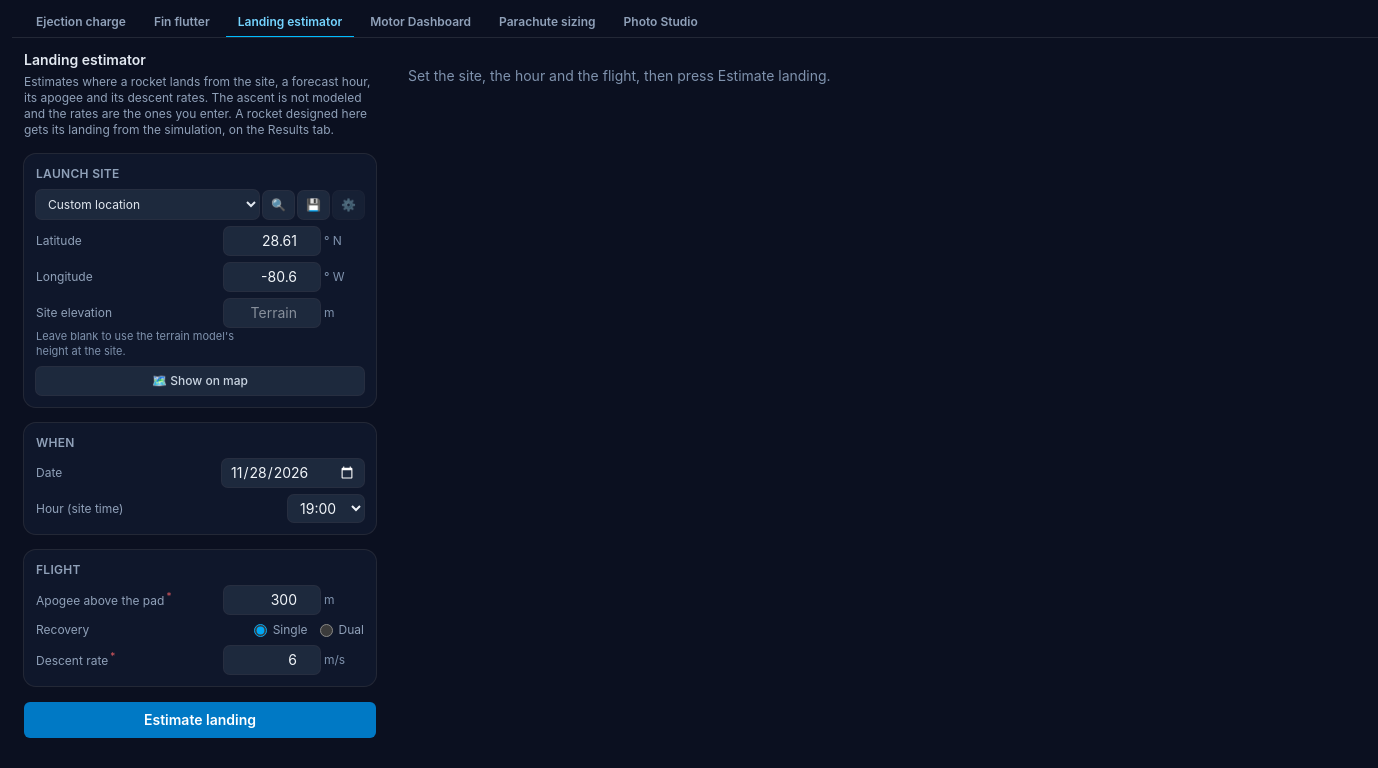
Test: the Tools tab › holds Photo Studio, with desktop's three tabs of settings
Step 1. Click the tab "Photo Studio" → (661, 23), box [612,8,710,38]
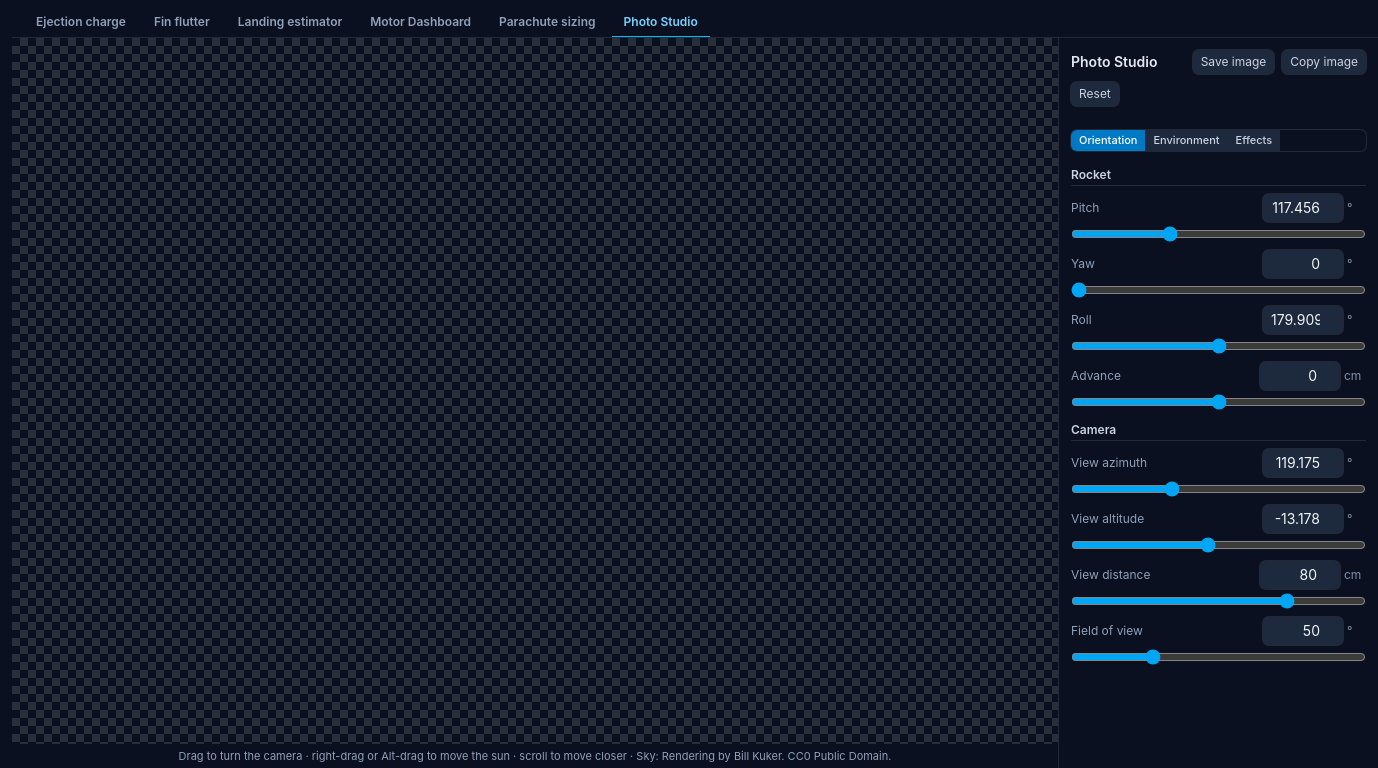
Check: the heading "Photo Studio" is shown, box [1071,52,1158,72]
Check: the number field named "Pitch" is shown, box [1263,194,1343,222]
Step 2. Click the button "Environment" → (1187, 140), box [1146,130,1228,150]
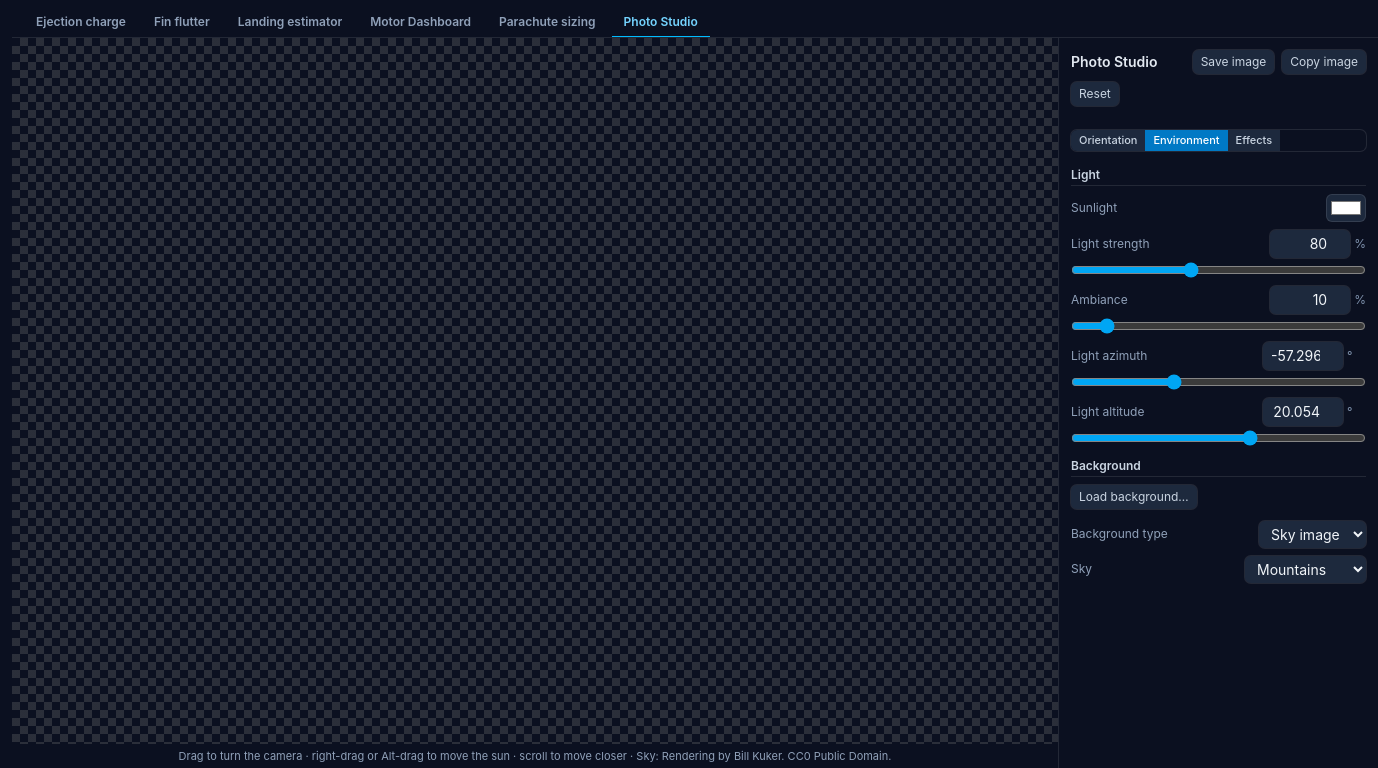
Check: the number field named "Light strength" is shown, box [1270,230,1350,258]
Step 3. Click the button "Effects" → (1254, 140), box [1228,130,1280,150]
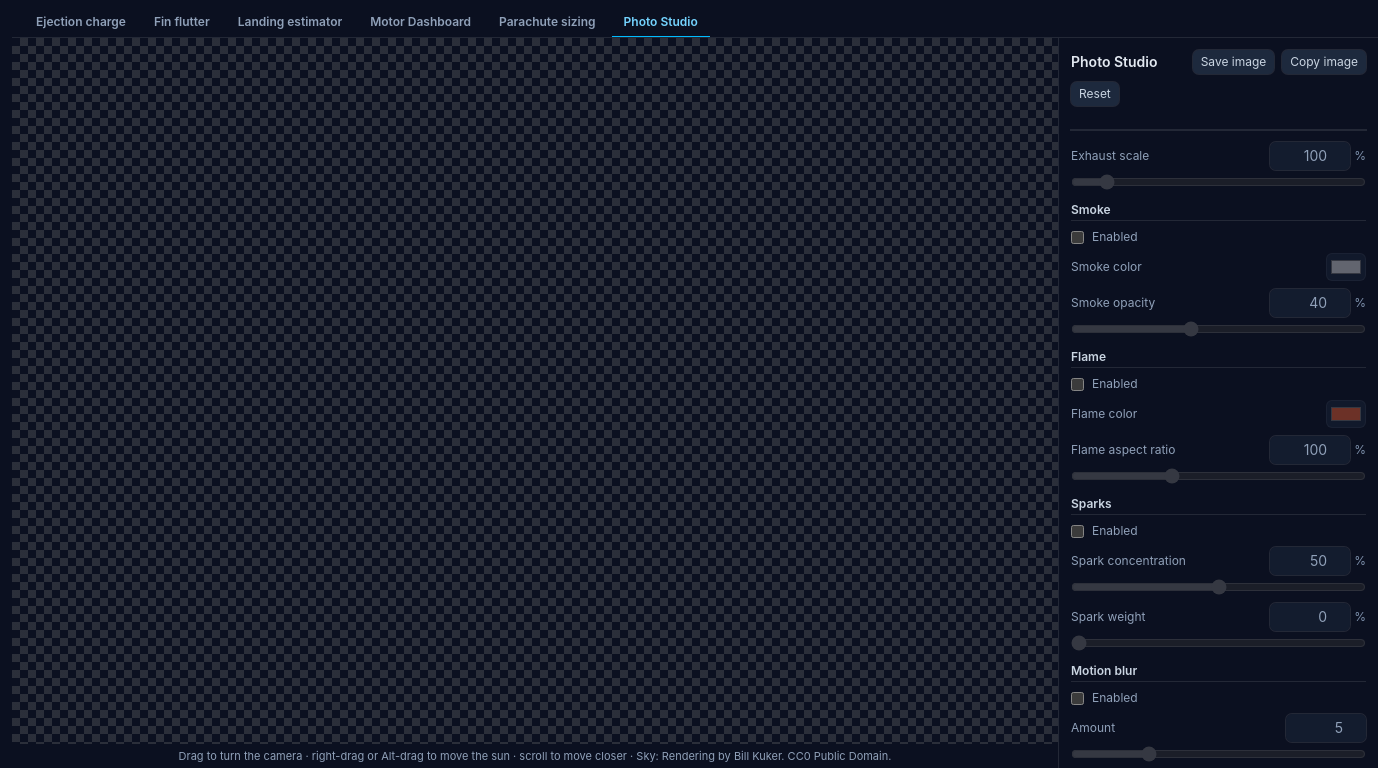
Check: the number field named "Exhaust scale" is shown, box [1270,142,1350,170]
